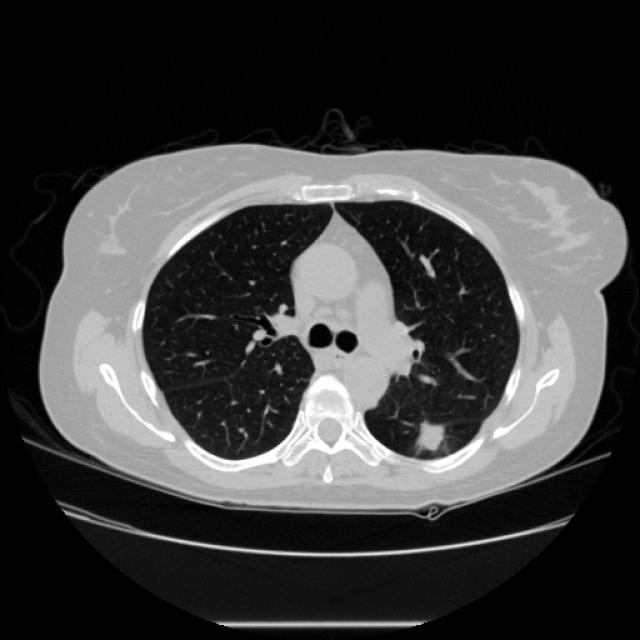nodule: (394, 399, 464, 469)
